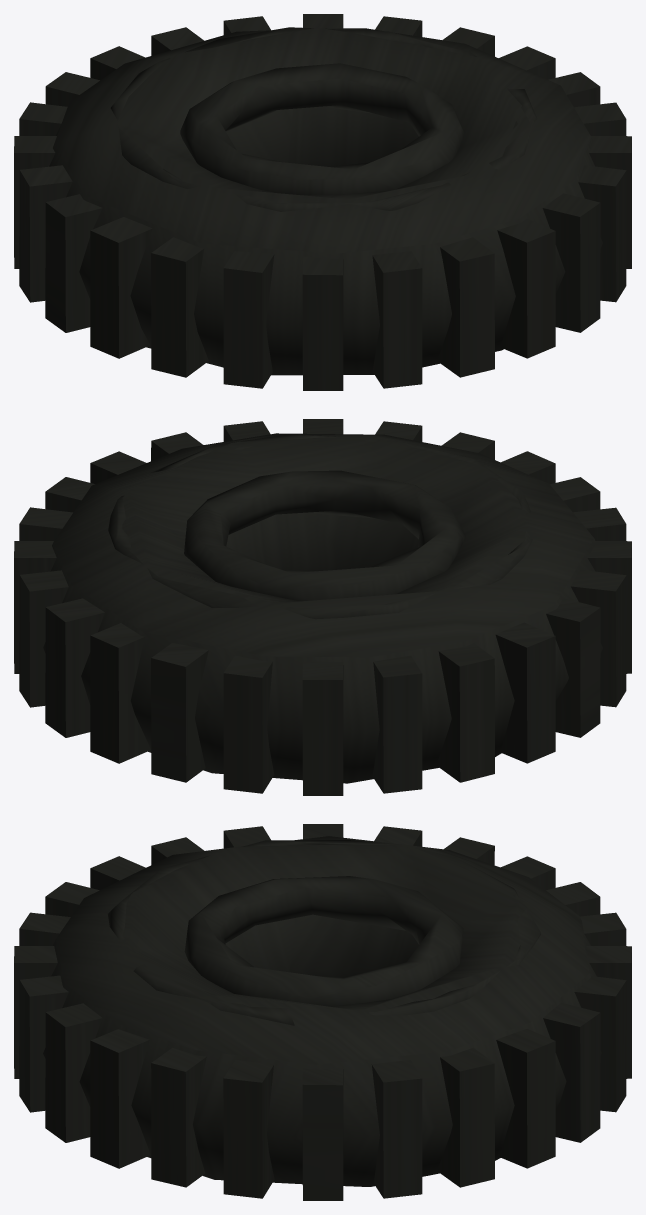
Rendered from loose-tyre-lod.obj.
3 renders of one model, top to bottom at view 1: azimuth 30°, elevation 25°; view 2: azimuth 150°, elevation 25°; view 3: azimuth 270°, elevation 25°, orthographic.
Parts seen in each view (by area): view 1: loose-tyre.001; view 2: loose-tyre.001; view 3: loose-tyre.001.
Boxes of the visible parts, x1,y1,x2,y2 form: loose-tyre.001: (14,14,631,390); loose-tyre.001: (14,419,631,795); loose-tyre.001: (14,824,631,1200).
Bounding box in the file's own units: 1.02 × 0.3206 × 1.02.
Materials: 1 (1 with a texture image).
